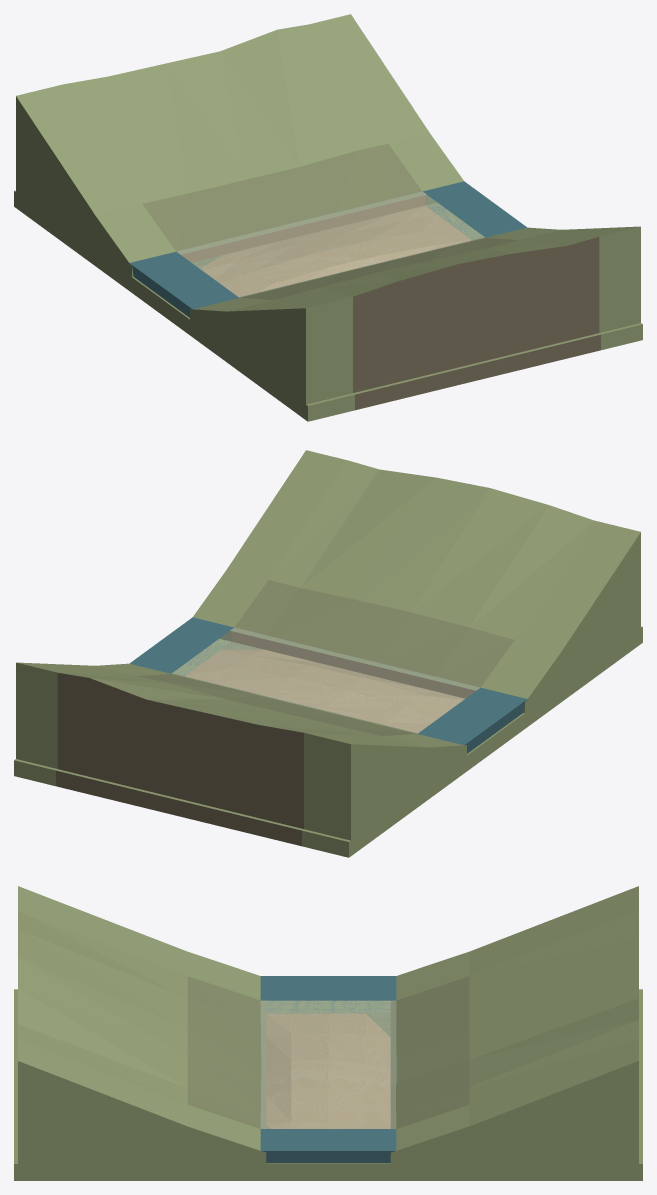
3 views of the same model, one above another, from view 1: azimuth 30°, elevation 25°; view 2: azimuth 150°, elevation 25°; view 3: azimuth 270°, elevation 25° (orthographic). The views are drawn at different scales.
Visible parts, largest first — view 1: Shoal_ContinuousTerrain, WaterSurface_Runtime; view 2: Shoal_ContinuousTerrain, WaterSurface_Runtime; view 3: Shoal_ContinuousTerrain, WaterSurface_Runtime.
Boxes of the visible parts, x1,y1,x2,y2 form: Shoal_ContinuousTerrain: (14,14,642,421); WaterSurface_Runtime: (129,181,526,317); Shoal_ContinuousTerrain: (14,450,642,857); WaterSurface_Runtime: (130,617,527,753); Shoal_ContinuousTerrain: (14,886,642,1180); WaterSurface_Runtime: (260,976,396,1163).
Bounding box in the file's own units: 2 × 0.68 × 3.04.
